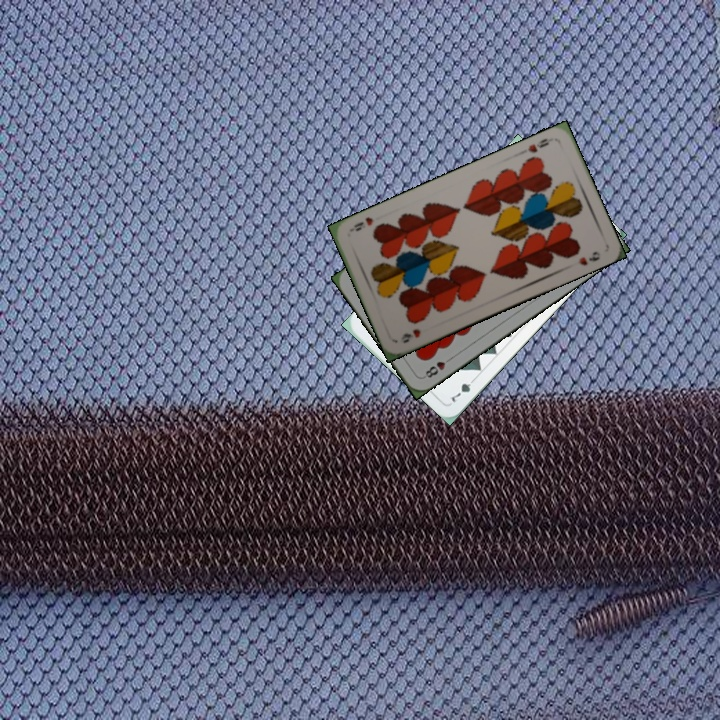G7: (445, 373, 479, 405)
H8: (419, 353, 455, 381)
H9: (524, 134, 552, 155), (397, 325, 423, 346)
